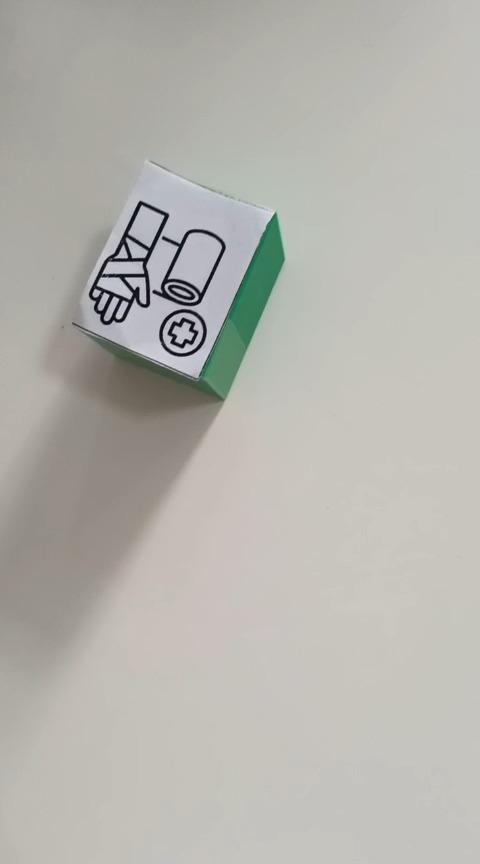Bandages: (70, 158, 285, 400)
